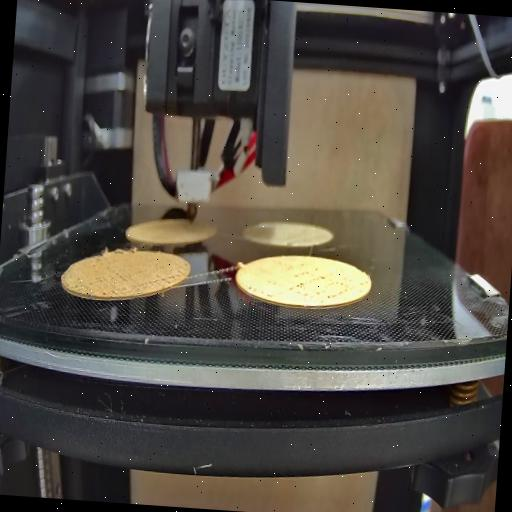under_extrusion: (288, 262, 358, 306), (72, 258, 126, 300), (148, 268, 179, 292), (248, 283, 276, 301)
